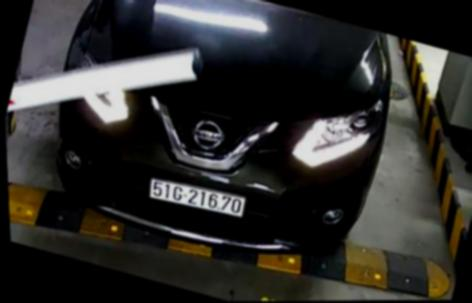License_Plate: (147, 171, 254, 225)
